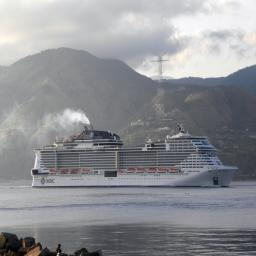cruises: (31, 117, 242, 192)
